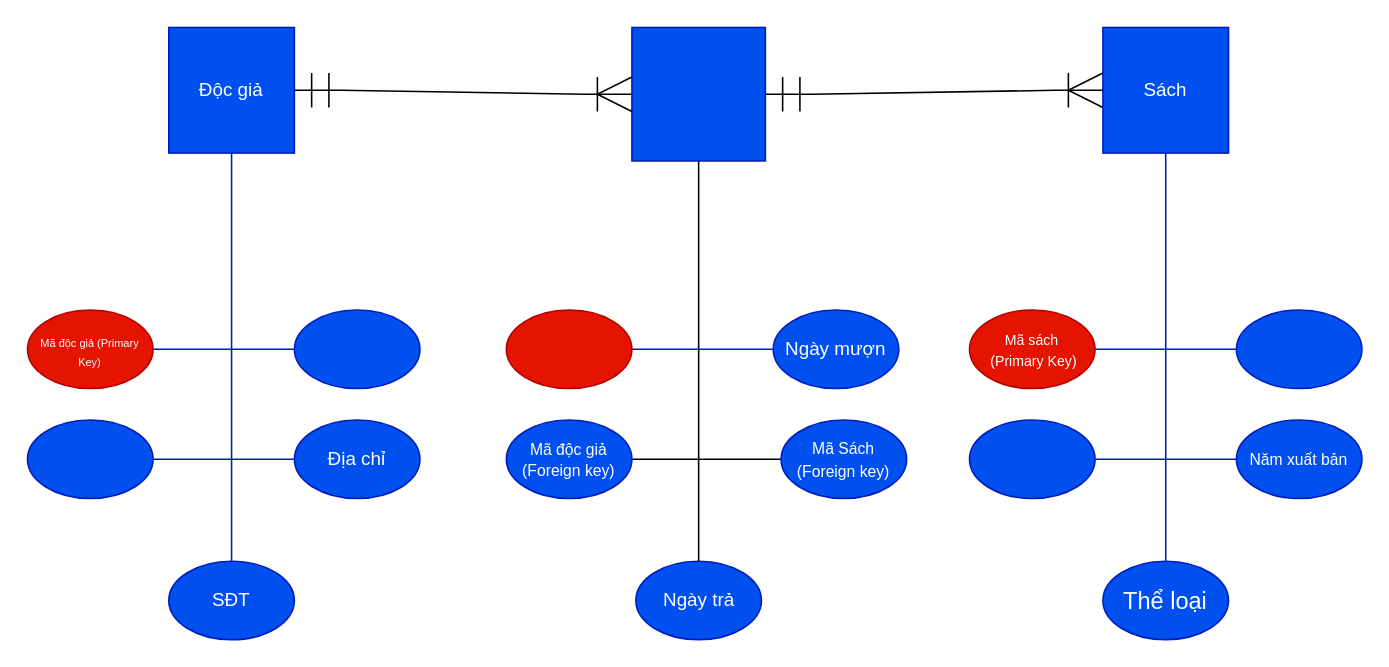
The diagram is 1389 pixels wide and 667 high, and some of its shapes have lost their labels. The centre of each missing label's shape, as x and y in pixels:
"Mã mượn (Primary Key)" belongs at (x=568, y=349).
"Mượn" belongs at (x=697, y=93).
"Ngày sinh" belongs at (x=356, y=349).
"Tác giả" belongs at (x=1031, y=458).
"Tên sách" belongs at (x=1298, y=349).
"Tên độc giả" belongs at (x=89, y=458).
